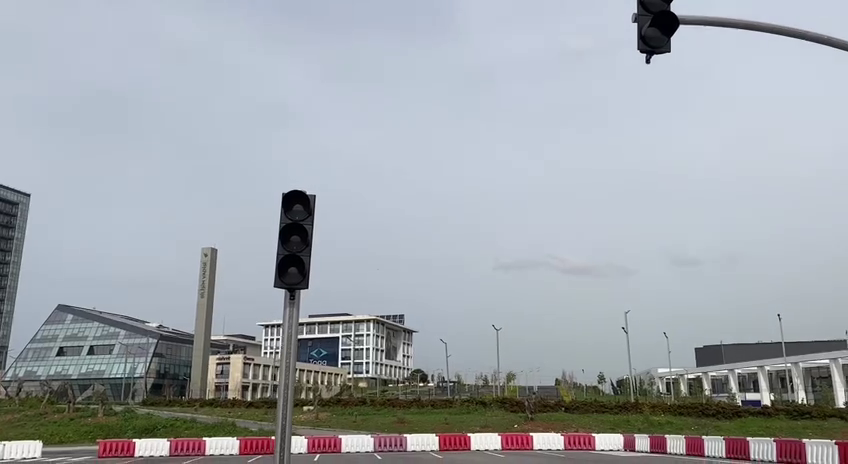trafficLight: (269, 184, 320, 298), (629, 1, 681, 68)
